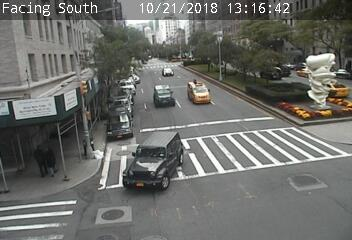car: (128, 136, 178, 187), (188, 82, 210, 104), (150, 87, 173, 105), (161, 67, 172, 76)
